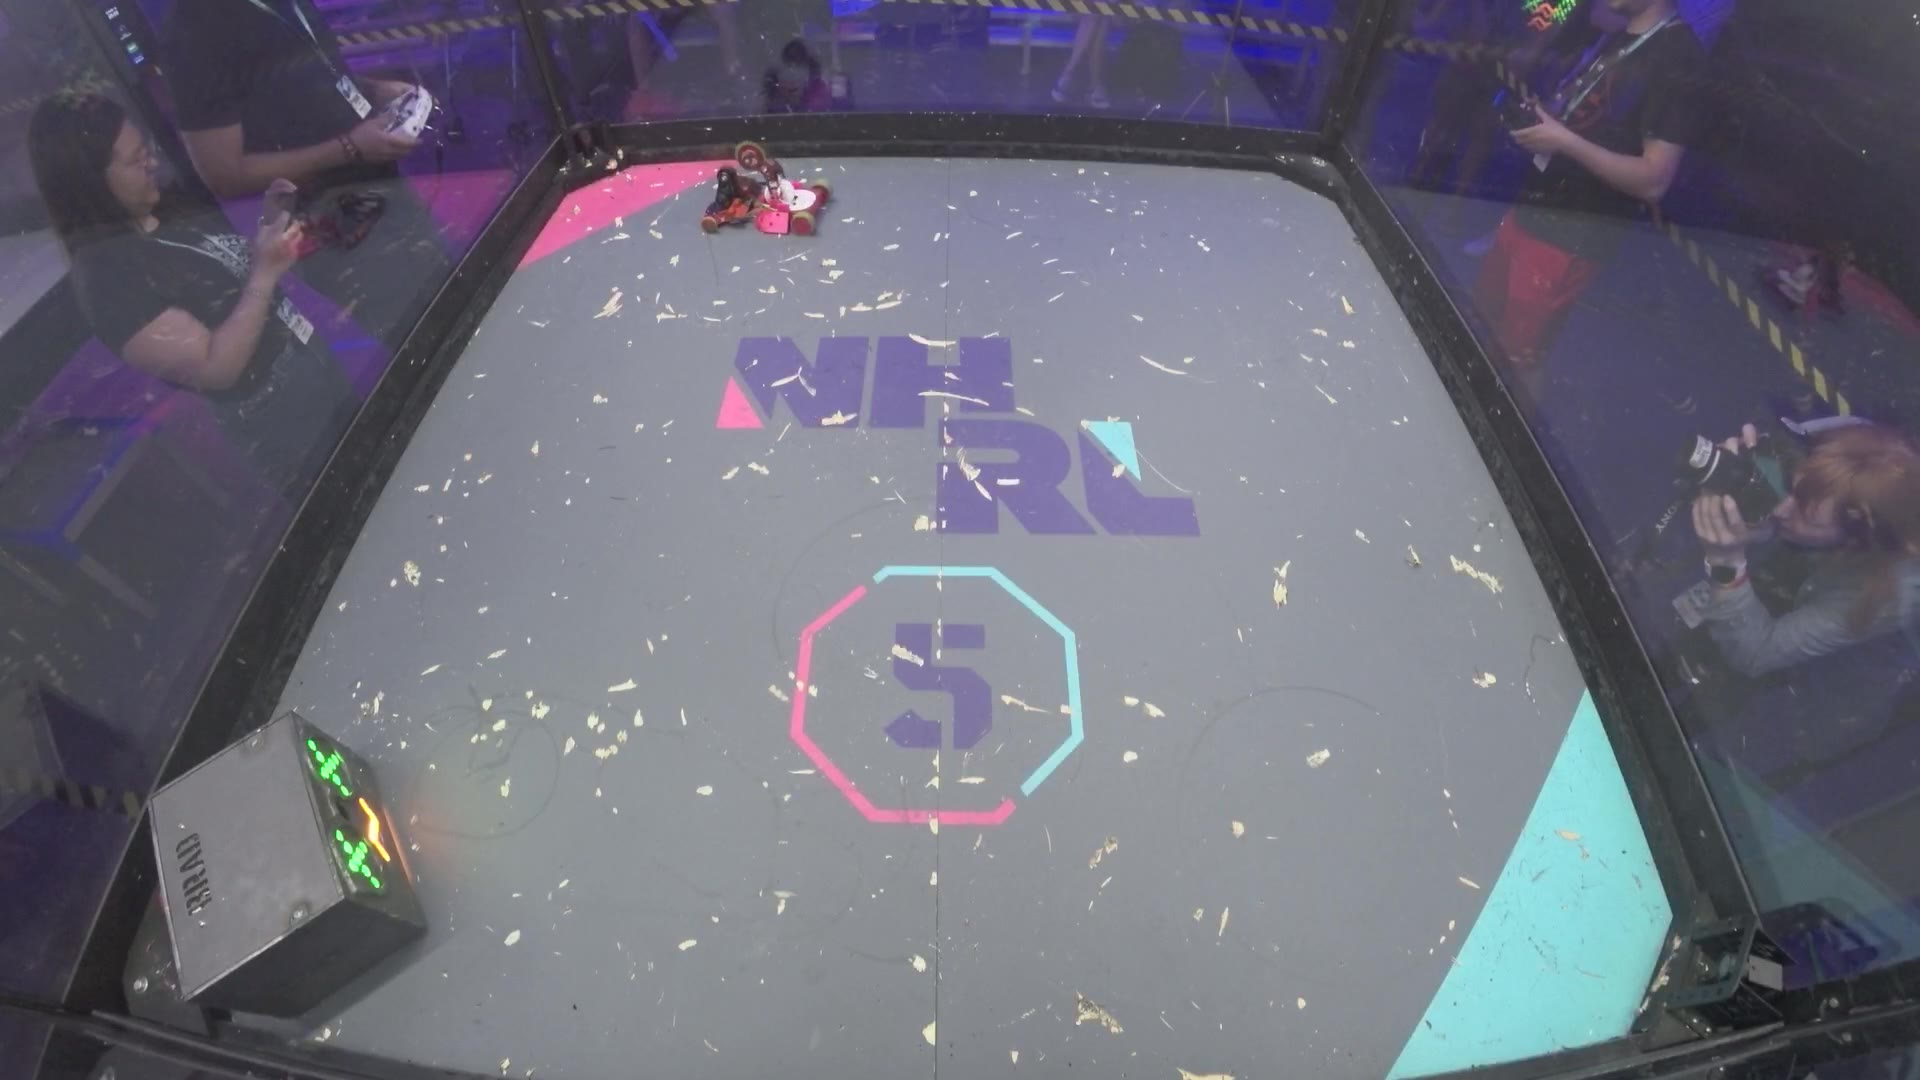combatbot: (700, 138, 767, 233), (760, 164, 835, 239)
housebot: (142, 711, 433, 1018)
